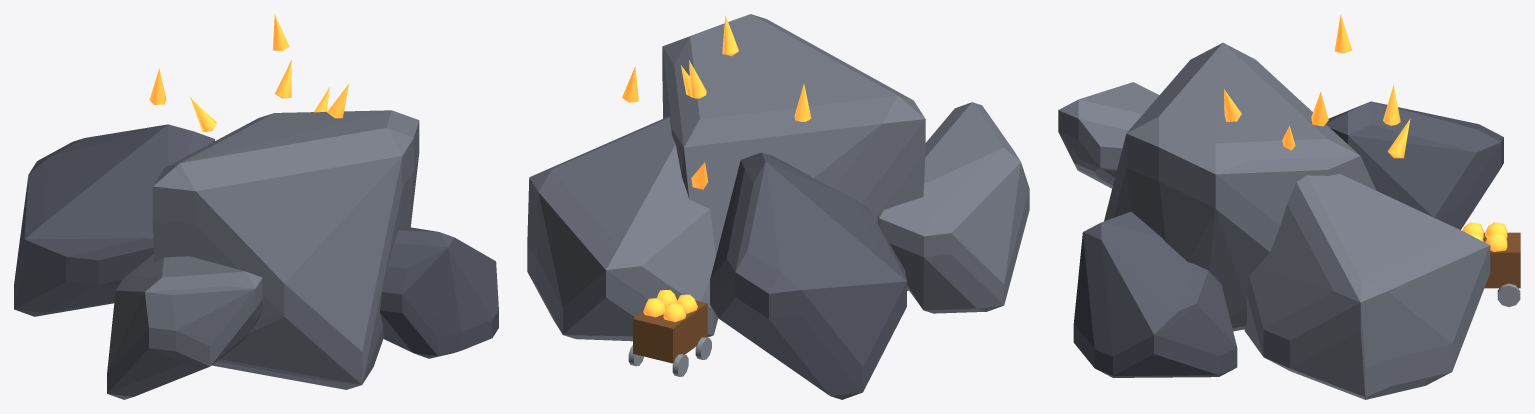
The model's file is quarry.glb.
3 renders of one model, left to right at view 1: azimuth 30°, elevation 25°; view 2: azimuth 150°, elevation 25°; view 3: azimuth 270°, elevation 25°, orthographic. The views are drawn at different scales.
Visible parts, largest first — view 1: Rock_7A7F8C, RockDark_5A5E6B, Ore_E07B2C; view 2: Rock_7A7F8C, RockDark_5A5E6B, Ore_E07B2C, Wood_8A5A34, Metal_9AA0AA; view 3: Rock_7A7F8C, RockDark_5A5E6B, Ore_E07B2C, Wood_8A5A34, Metal_9AA0AA.
Boxes of the visible parts, bbox=[...] form: Rock_7A7F8C: bbox=[107, 110, 419, 399]; RockDark_5A5E6B: bbox=[14, 124, 498, 358]; Ore_E07B2C: bbox=[149, 14, 349, 132]; Rock_7A7F8C: bbox=[527, 14, 1029, 341]; RockDark_5A5E6B: bbox=[710, 152, 906, 399]; Ore_E07B2C: bbox=[622, 15, 811, 322]; Wood_8A5A34: bbox=[633, 295, 707, 363]; Metal_9AA0AA: bbox=[628, 337, 711, 376]; Rock_7A7F8C: bbox=[1058, 42, 1490, 399]; RockDark_5A5E6B: bbox=[1073, 101, 1503, 377]; Ore_E07B2C: bbox=[1224, 14, 1507, 251]; Wood_8A5A34: bbox=[1483, 232, 1520, 288]; Metal_9AA0AA: bbox=[1497, 283, 1520, 306].
Bounding box in the file's own units: 21 × 13.96 × 20.94.
